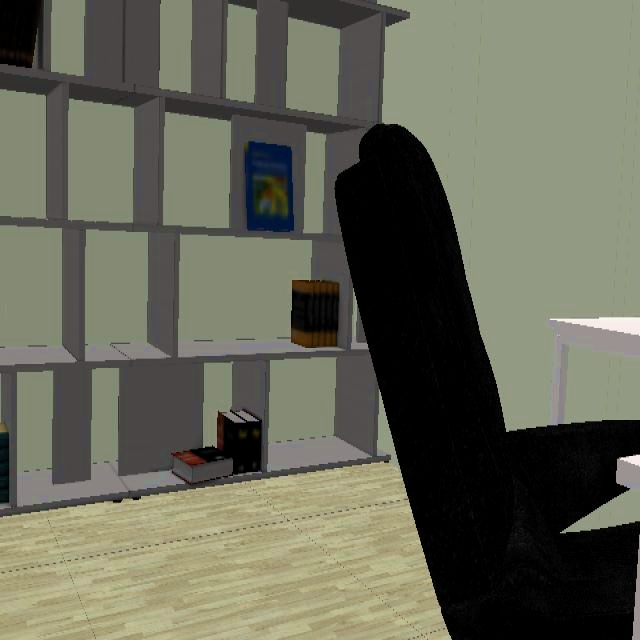book: (173, 407, 264, 485), (244, 141, 293, 232), (290, 280, 340, 351), (0, 423, 10, 507)
bookshelf: (0, 64, 249, 484), (0, 0, 412, 239), (41, 343, 204, 485), (228, 0, 301, 108), (17, 463, 187, 507), (311, 240, 353, 351), (264, 437, 391, 472), (232, 361, 268, 427), (178, 339, 312, 356), (2, 375, 17, 468)
chair: (335, 124, 640, 640)
table: (545, 317, 640, 425), (616, 455, 640, 493), (632, 537, 640, 640)
